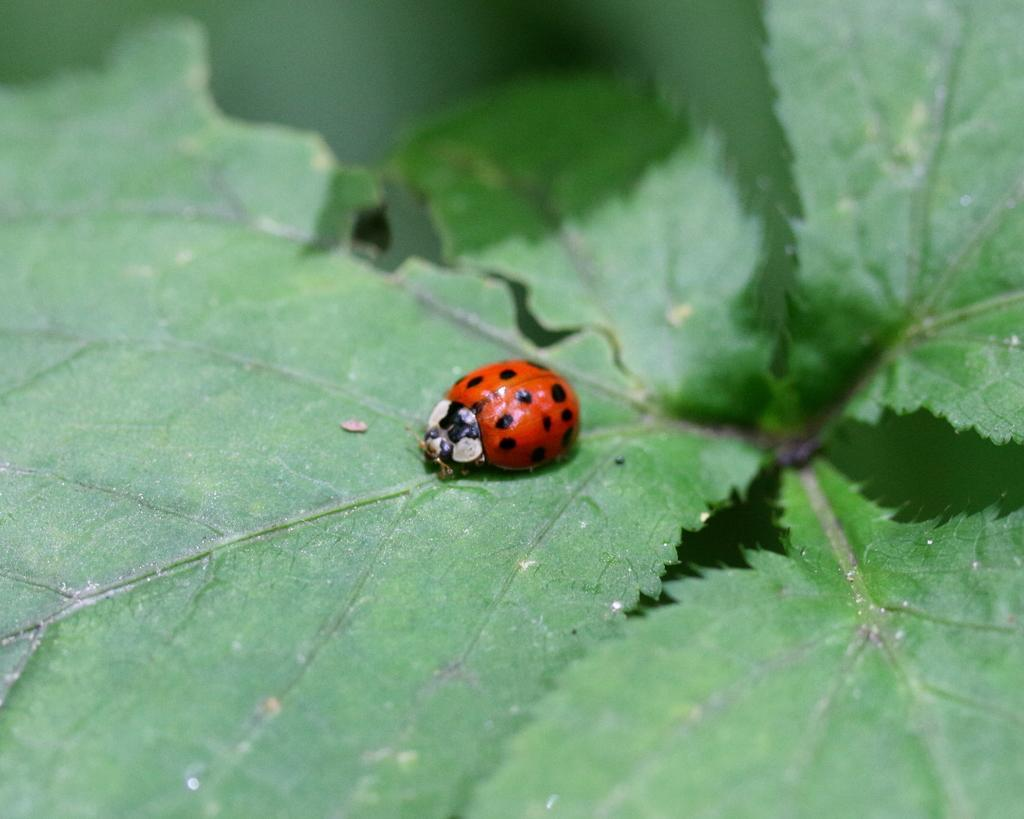ladybug: (414, 351, 589, 486)
